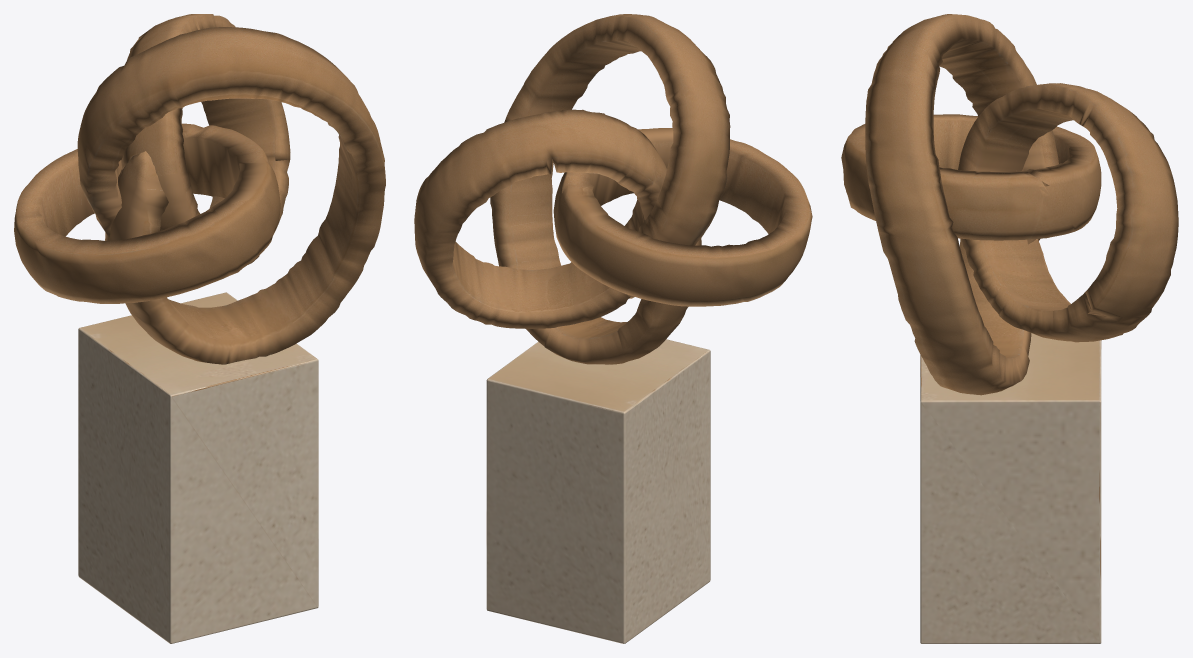
File: sculpture-rings.raw.glb
3 views of the same model, side by side, from view 1: azimuth 30°, elevation 25°; view 2: azimuth 150°, elevation 25°; view 3: azimuth 270°, elevation 25° (orthographic). The views are drawn at different scales.
Size of the model in its own units: 0.5518 by 0.9517 by 0.5015.
Materials: 1 (1 with a texture image).
